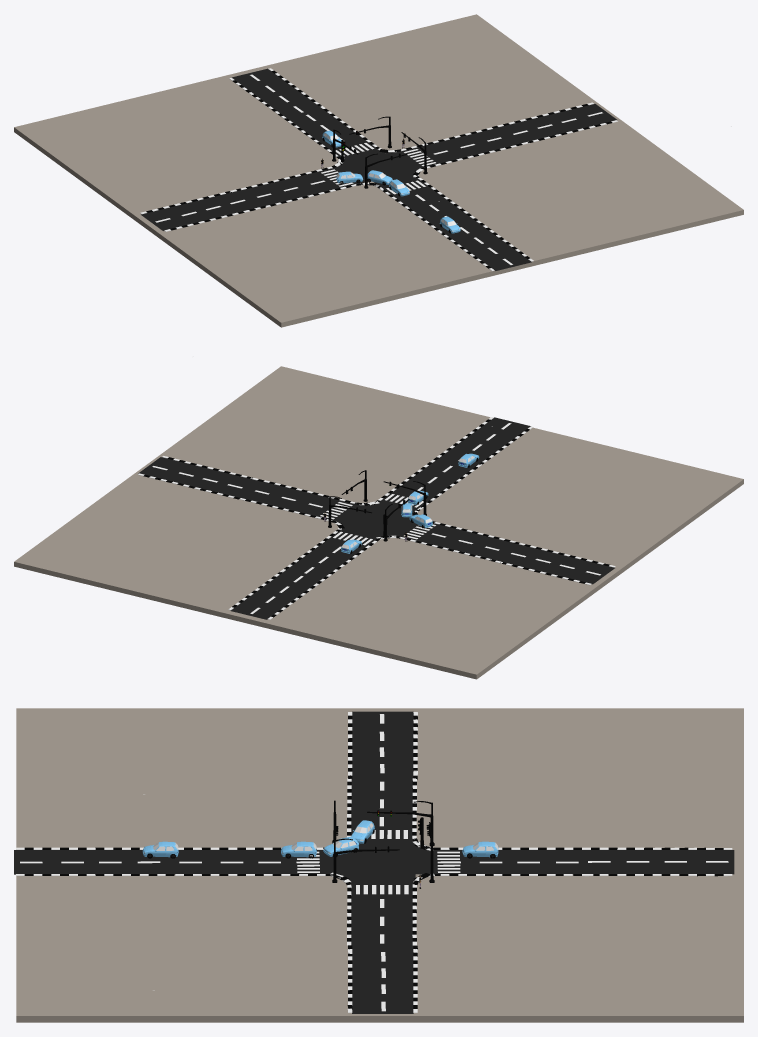
Rendered from traffic_scene.fbx.
3 renders of one model, top to bottom at view 1: azimuth 30°, elevation 25°; view 2: azimuth 150°, elevation 25°; view 3: azimuth 270°, elevation 25°, orthographic. The views are drawn at different scales.
Visible parts, largest first — view 1: Ground, Plane.001, Plane.003, Plane.002, Plane.331, Plane.332, Plane.086, Plane.328, Plane.329, Plane.333; view 2: Ground, Plane.001, Plane.003, Plane.331, Plane.002, Plane.332, Plane.086, Plane.328, Plane.329, Plane.333; view 3: Ground, Plane.001, Plane.003, Plane.331, Plane.002, Plane.332, Plane.086, Plane.328, Plane.329, Plane.333.
Boxes of the visible parts, x1,y1,x2,y2 form: Ground: (14, 14, 743, 327); Plane.001: (140, 188, 270, 231); Plane.003: (488, 102, 617, 145); Plane.002: (229, 68, 329, 120); Plane.331: (375, 130, 514, 174); Plane.332: (243, 164, 370, 205); Plane.086: (438, 219, 531, 270); Plane.328: (380, 174, 473, 228); Plane.329: (287, 114, 382, 157); Plane.333: (340, 153, 410, 186); Ground: (14, 366, 743, 679); Plane.001: (489, 541, 615, 585); Plane.003: (138, 456, 264, 499); Plane.331: (241, 482, 381, 527); Plane.002: (228, 565, 328, 619); Plane.332: (387, 517, 512, 559); Plane.086: (436, 417, 530, 468); Plane.328: (374, 460, 471, 510); Plane.329: (293, 526, 374, 578); Plane.333: (346, 506, 414, 539); Ground: (16, 708, 743, 1022); Plane.001: (348, 711, 417, 783); Plane.003: (347, 942, 417, 1013); Plane.331: (348, 867, 415, 945); Plane.002: (564, 847, 734, 876); Plane.332: (351, 778, 412, 849); Plane.086: (14, 850, 173, 874); Plane.328: (173, 850, 343, 874); Plane.329: (419, 850, 582, 874); Plane.333: (328, 850, 437, 874).
Size of the model in its own units: 10822 by 866 by 10032.
